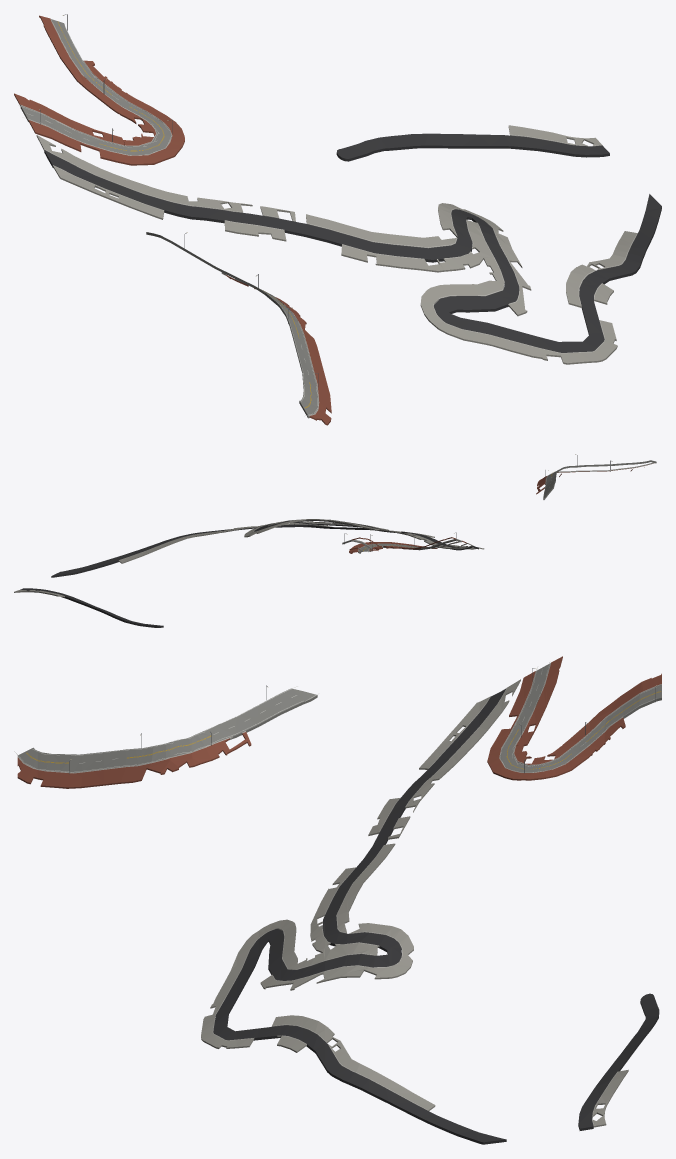
File: 17-109473-59486.0cba88ea.glb
3 renders of one model, top to bottom at view 1: azimuth 30°, elevation 25°; view 2: azimuth 150°, elevation 25°; view 3: azimuth 270°, elevation 25°, orthographic. The views are drawn at different scales.
Size of the model in its own units: 296 by 116 by 293.
